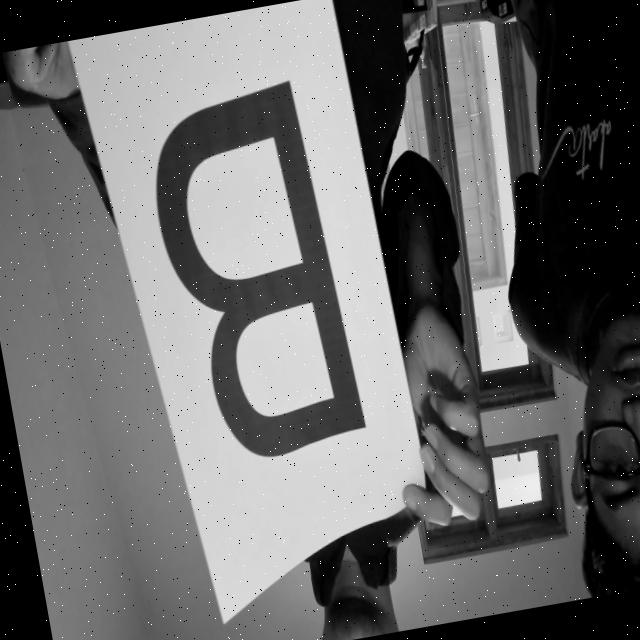b: (129, 70, 373, 480)
